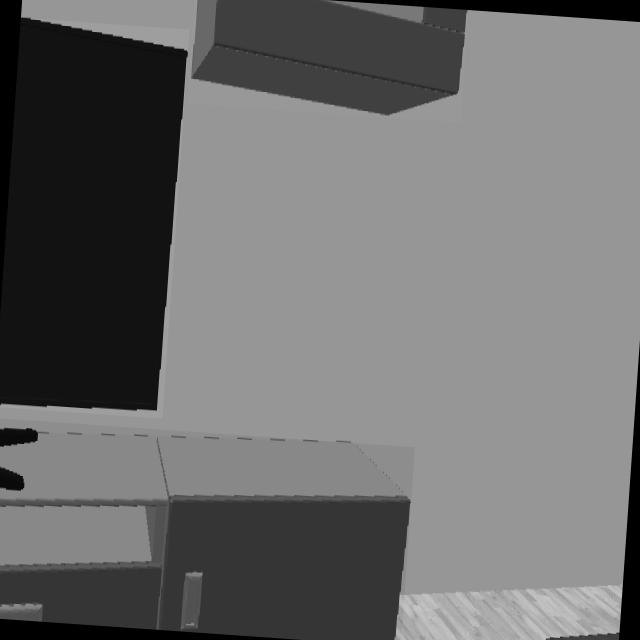cabinet: (0, 433, 411, 640), (189, 0, 468, 118)
monitor: (0, 17, 187, 413)
